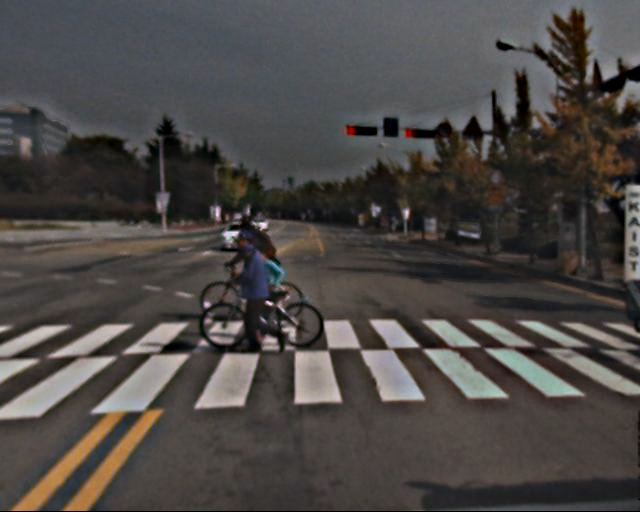person: (234, 233, 285, 356), (234, 221, 287, 326), (240, 243, 287, 343)
